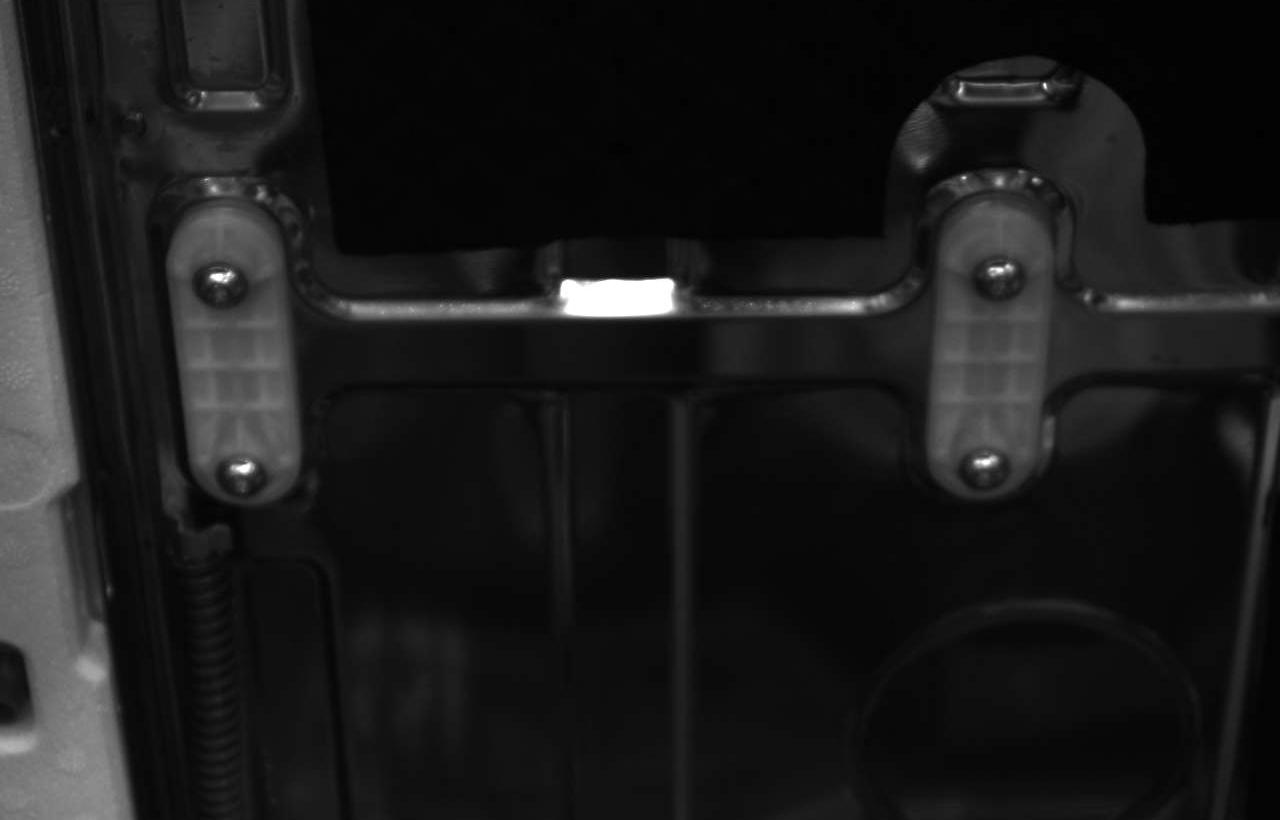vida-ok: (181, 254, 253, 321), (950, 428, 1016, 497), (967, 247, 1034, 314), (210, 448, 276, 507)
